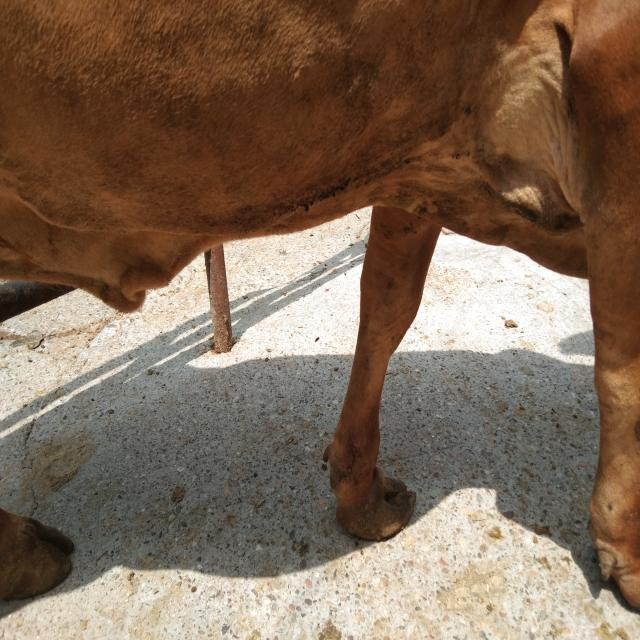Hoof: (334, 465, 416, 542)
